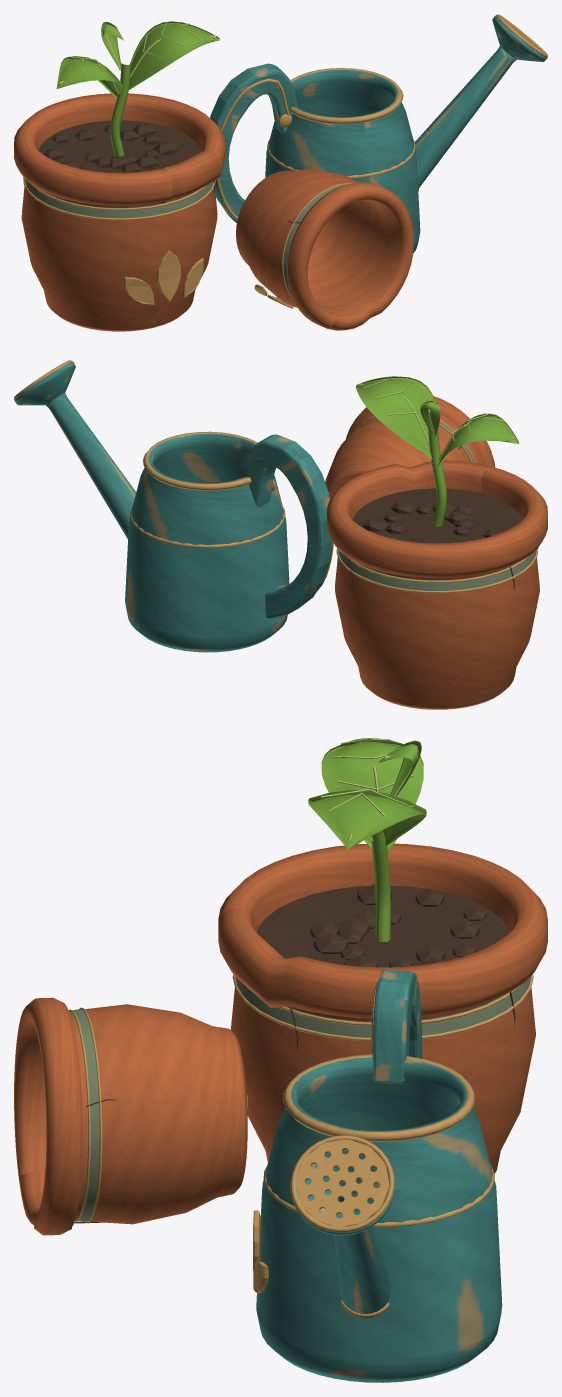
File: courtyard-garden-props.glb
3 views of the same model, one above another, from view 1: azimuth 30°, elevation 25°; view 2: azimuth 150°, elevation 25°; view 3: azimuth 270°, elevation 25° (orthographic). The views are drawn at different scales.
Visible parts, largest first — view 1: garden-terracotta (×2), garden-copper-patina, garden-rubbed-copper (×3), garden-soil, garden-fresh-leaf (×4), garden-sage-band (×2); view 2: garden-terracotta (×2), garden-copper-patina, garden-soil, garden-fresh-leaf (×4), garden-rubbed-copper (×2), garden-sage-band; view 3: garden-terracotta (×2), garden-copper-patina, garden-rubbed-copper (×3), garden-soil, garden-fresh-leaf (×4), garden-sage-band (×2).
Boxes of the visible parts, left/top/right/bottom form: garden-terracotta (×2): left=14, top=93, right=414, bottom=331; garden-copper-patina: left=210, top=15, right=547, bottom=252; garden-rubbed-copper (×3): left=23, top=14, right=547, bottom=308; garden-soil: left=28, top=120, right=214, bottom=206; garden-fresh-leaf (×4): left=56, top=21, right=219, bottom=156; garden-sage-band (×2): left=24, top=179, right=346, bottom=297; garden-terracotta (×2): left=325, top=396, right=547, bottom=709; garden-copper-patina: left=14, top=362, right=332, bottom=652; garden-soil: left=349, top=488, right=521, bottom=590; garden-fresh-leaf (×4): left=356, top=376, right=519, bottom=526; garden-rubbed-copper (×2): left=14, top=360, right=538, bottom=593; garden-sage-band: left=338, top=550, right=536, bottom=590; garden-terracotta (×2): left=14, top=843, right=547, bottom=1235; garden-copper-patina: left=256, top=970, right=502, bottom=1382; garden-rubbed-copper (×3): left=68, top=974, right=533, bottom=1317; garden-soil: left=257, top=884, right=515, bottom=1050; garden-fresh-leaf (×4): left=308, top=738, right=426, bottom=941; garden-sage-band (×2): left=69, top=976, right=530, bottom=1222.
Size of the model in its own units: 2.28 by 1.18 by 1.34.
Materials: 7 (2 with a texture image).
